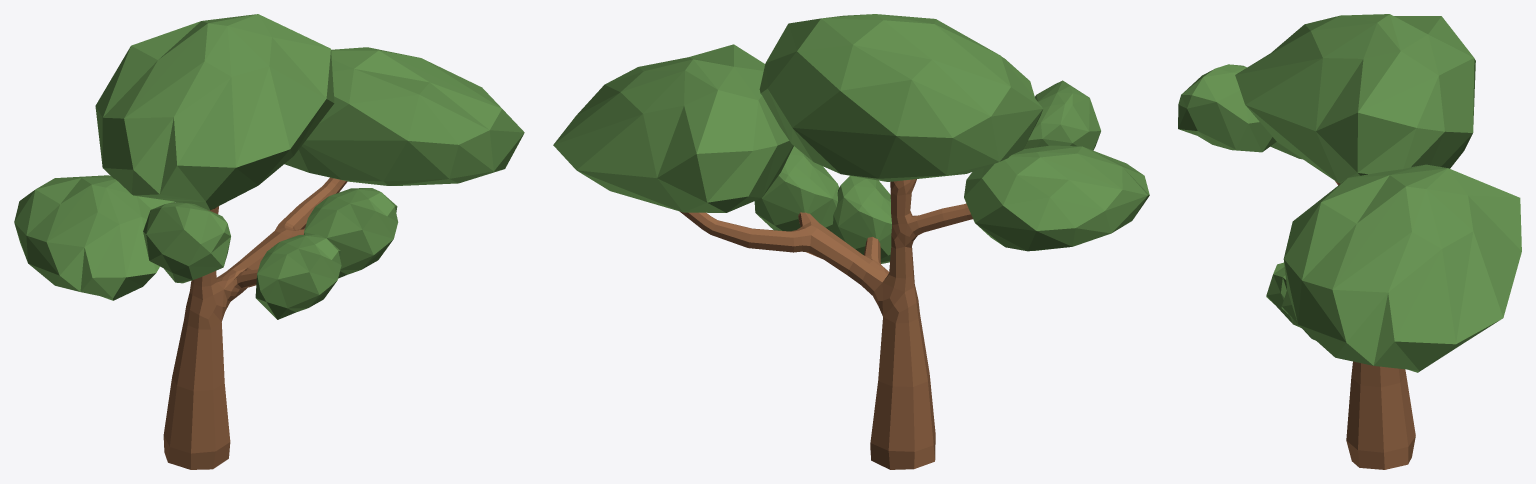
File: 054 Tree_2.FBX
3 views of the same model, side by side, from view 1: azimuth 30°, elevation 25°; view 2: azimuth 150°, elevation 25°; view 3: azimuth 270°, elevation 25° (orthographic). The views are drawn at different scales.
Parts seen in each view (by area): view 1: Tree 211; view 2: Tree 211; view 3: Tree 211.
Part boxes in pixels (left/top/right/bottom): Tree 211: left=14, top=14, right=524, bottom=469; Tree 211: left=553, top=14, right=1149, bottom=469; Tree 211: left=1178, top=14, right=1521, bottom=469.
Bounding box in the file's own units: 469 × 383 × 263.
